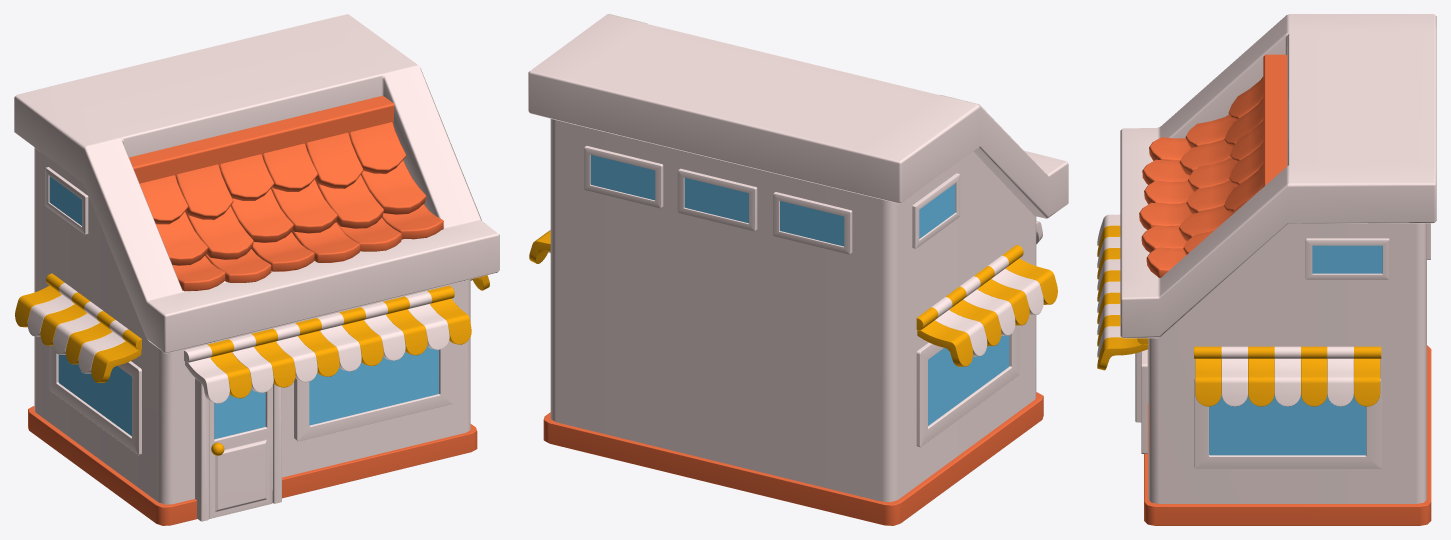
File: Store_18_Snack_Bar_1.glb
3 views of the same model, side by side, from view 1: azimuth 30°, elevation 25°; view 2: azimuth 150°, elevation 25°; view 3: azimuth 270°, elevation 25° (orthographic). The views are drawn at different scales.
Parts seen in each view (by area): view 1: Store_18_Snack_Bar_1; view 2: Store_18_Snack_Bar_1; view 3: Store_18_Snack_Bar_1.
Boxes of the visible parts, x1,y1,x2,y2 form: Store_18_Snack_Bar_1: (14,14,499,525); Store_18_Snack_Bar_1: (528,14,1068,525); Store_18_Snack_Bar_1: (1097,14,1436,525).
Size of the model in its own units: 6.96 by 5.66 by 5.03.
1 material, 1 textured.
